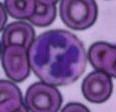N: (29, 29, 86, 84)
